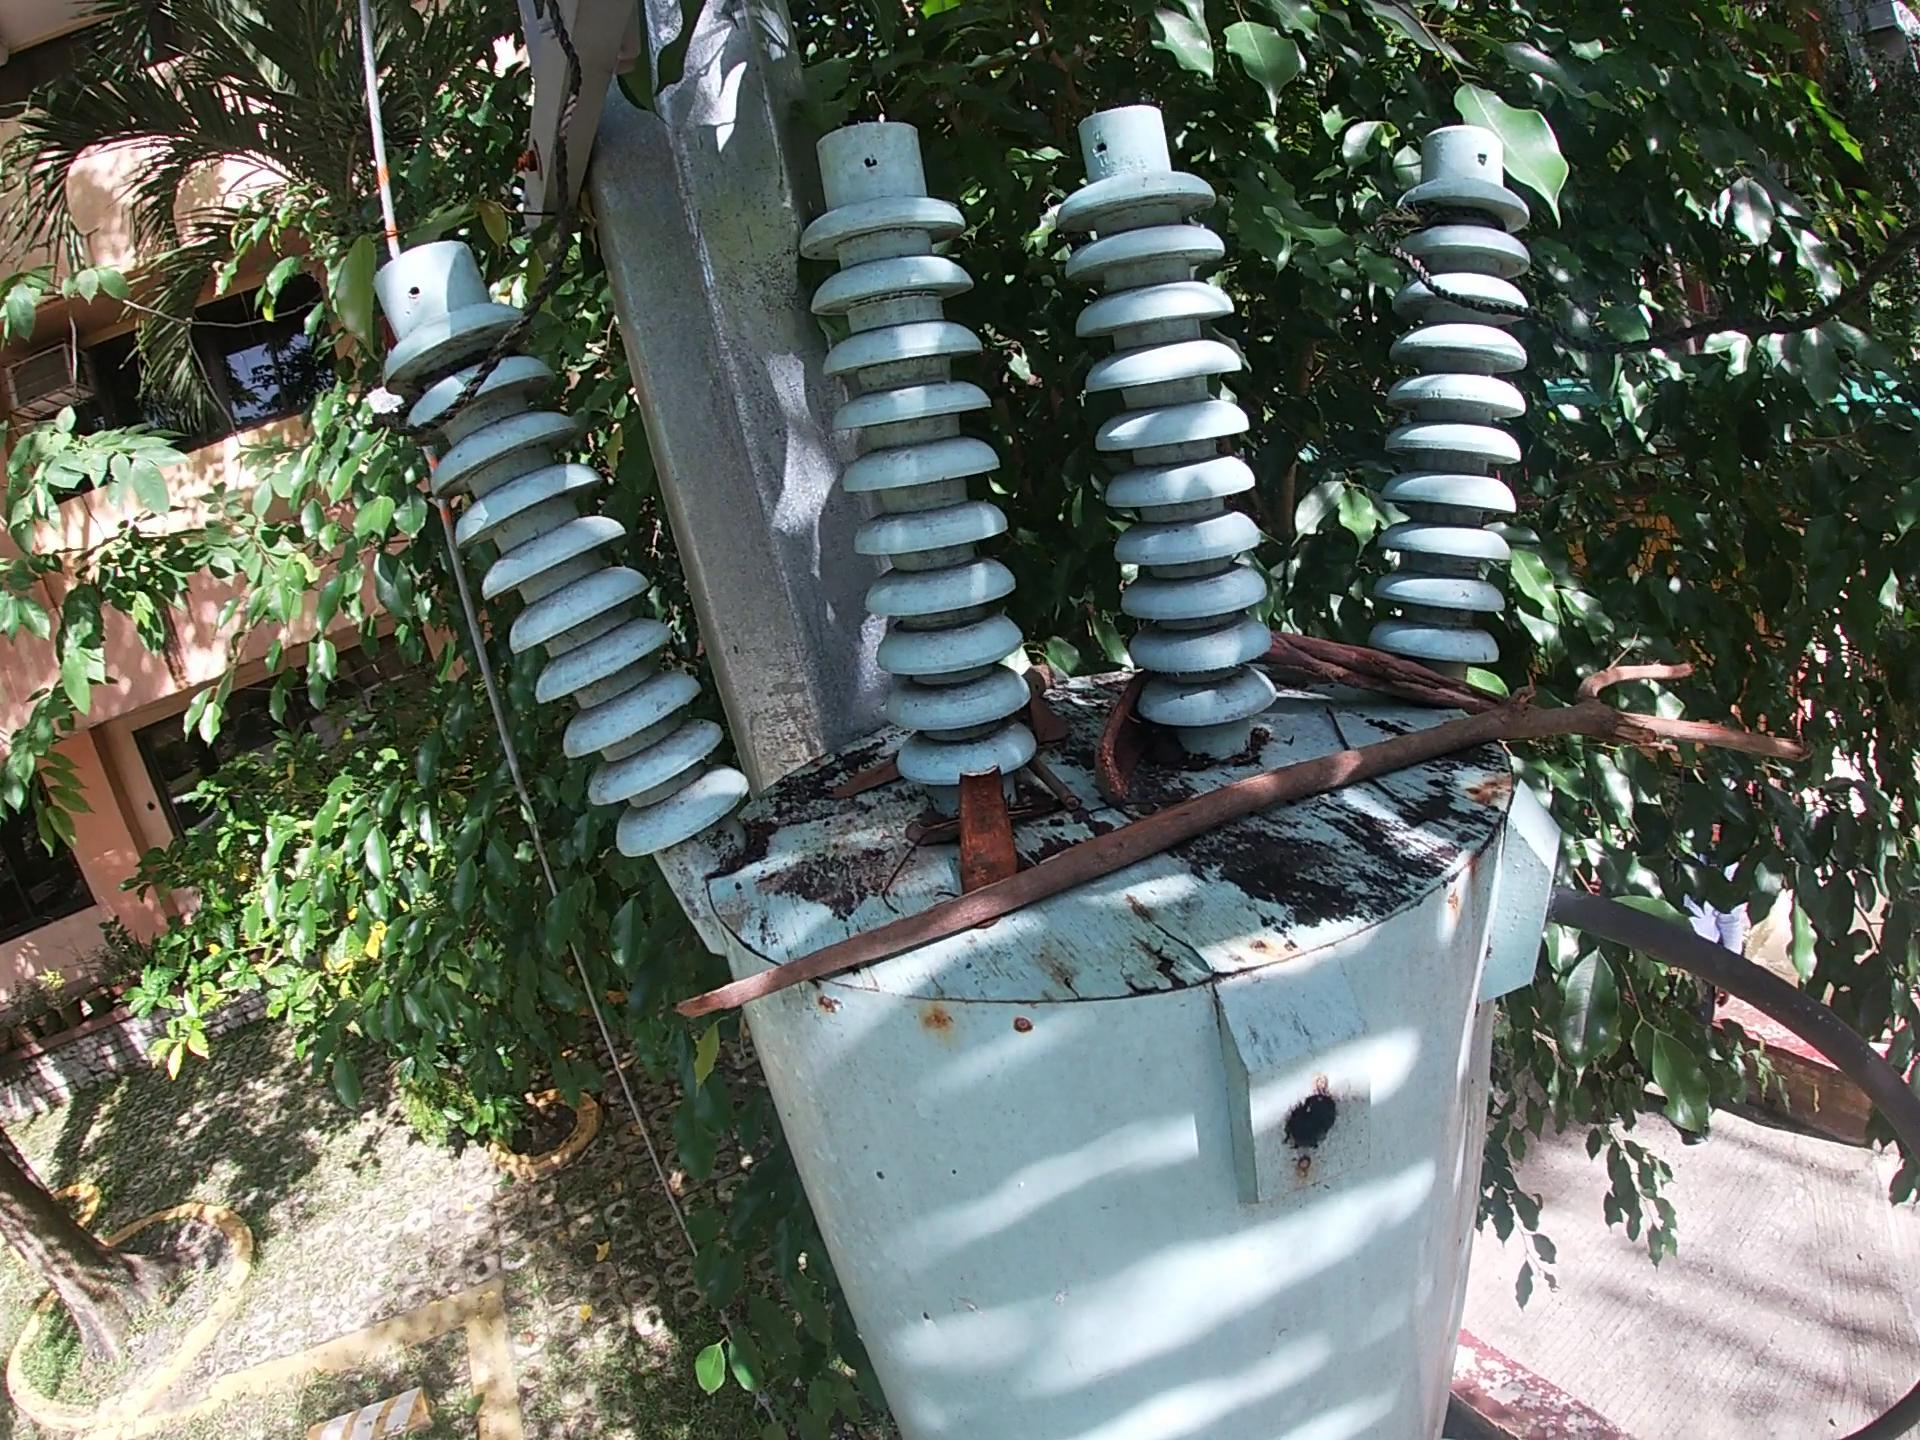leaf: (810, 749, 906, 811), (1011, 681, 1079, 752)
mahogany fruit: (1089, 667, 1166, 812), (946, 752, 1020, 895)
tree branch: (667, 650, 1823, 1032), (1249, 622, 1586, 740)
